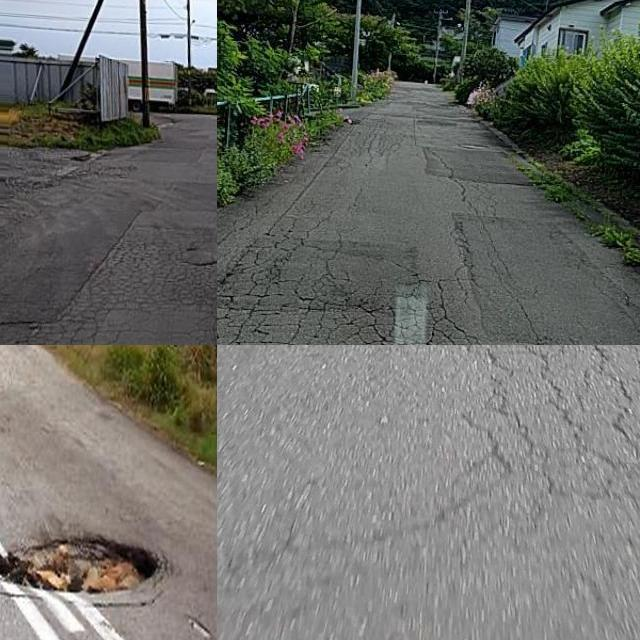Lubang: (0, 534, 160, 597)
Retak Buaya: (448, 345, 640, 508), (217, 232, 476, 345), (11, 233, 217, 345)
